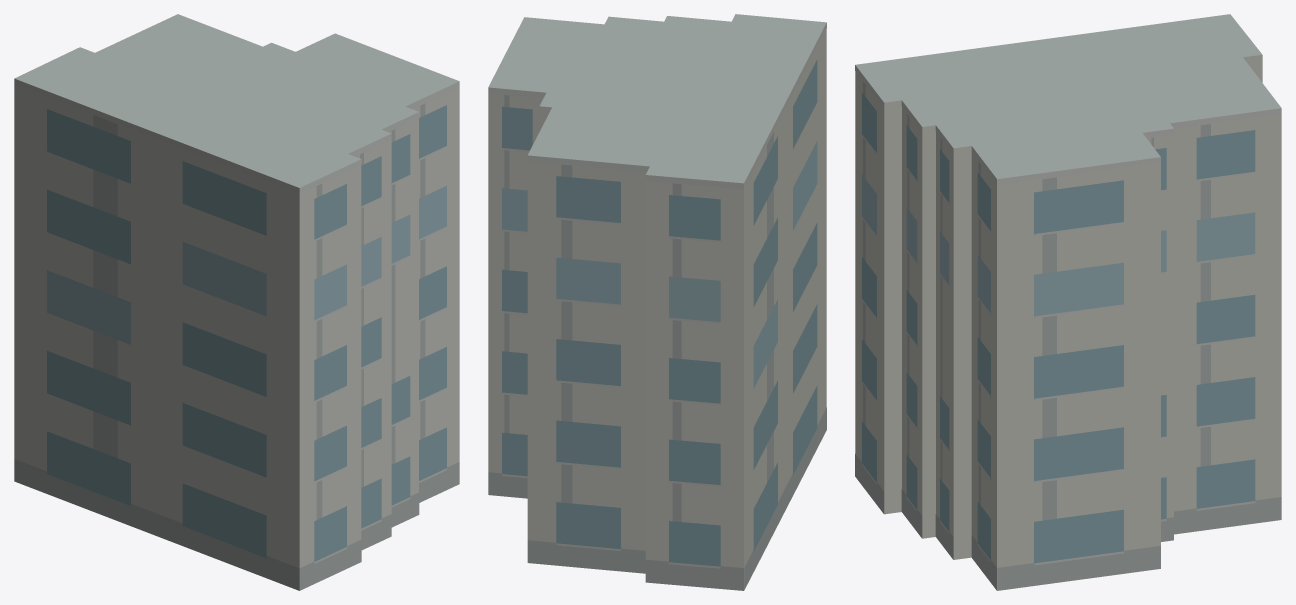
Rendered from survey-upis-32796962.glb.
3 renders of one model, left to right at view 1: azimuth 30°, elevation 25°; view 2: azimuth 150°, elevation 25°; view 3: azimuth 270°, elevation 25°, orthographic. The views are drawn at different scales.
Parts seen in each view (by area): view 1: survey-upis-32796962.tmp; view 2: survey-upis-32796962.tmp; view 3: survey-upis-32796962.tmp.
Part boxes in pixels (left/top/right/bottom): survey-upis-32796962.tmp: left=14, top=14, right=459, bottom=590; survey-upis-32796962.tmp: left=488, top=14, right=826, bottom=590; survey-upis-32796962.tmp: left=855, top=14, right=1281, bottom=590.
Bounding box in the file's own units: 13.92 × 16.17 × 15.19.
